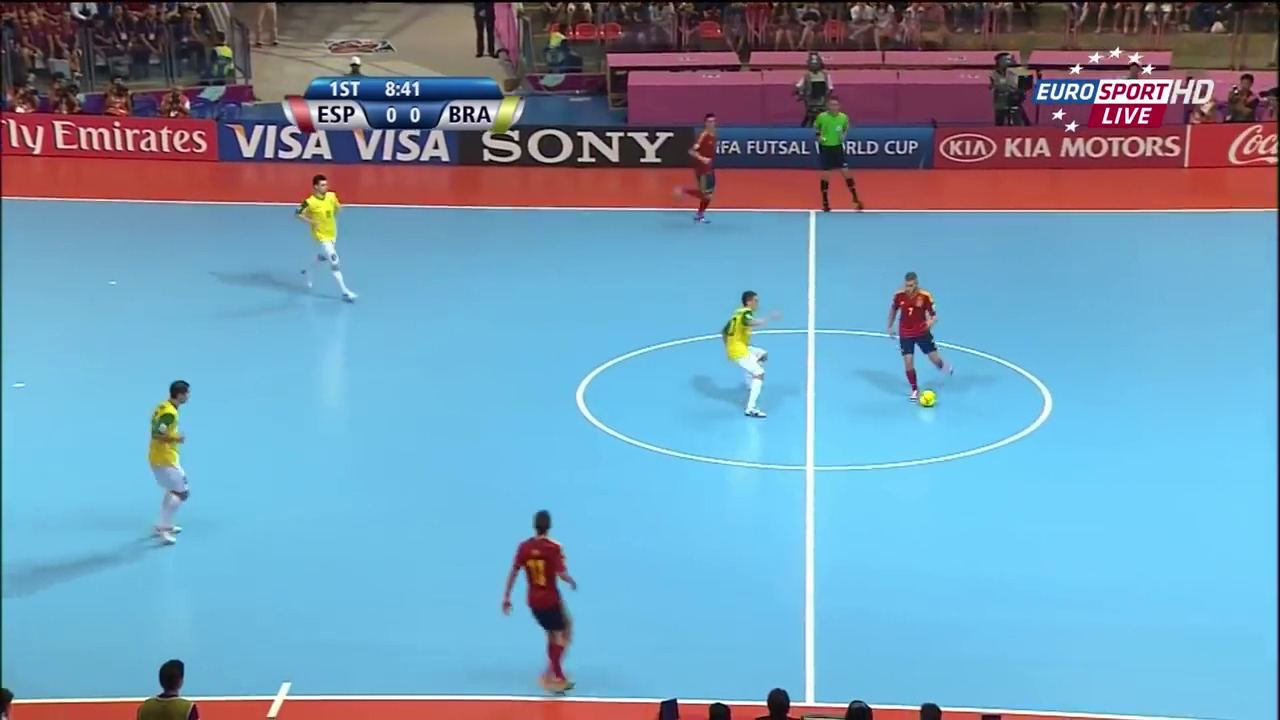ball: (917, 391, 936, 407)
person: (489, 511, 581, 689), (288, 172, 360, 308), (138, 382, 195, 546), (710, 287, 778, 418), (884, 276, 951, 401), (678, 110, 724, 227)
